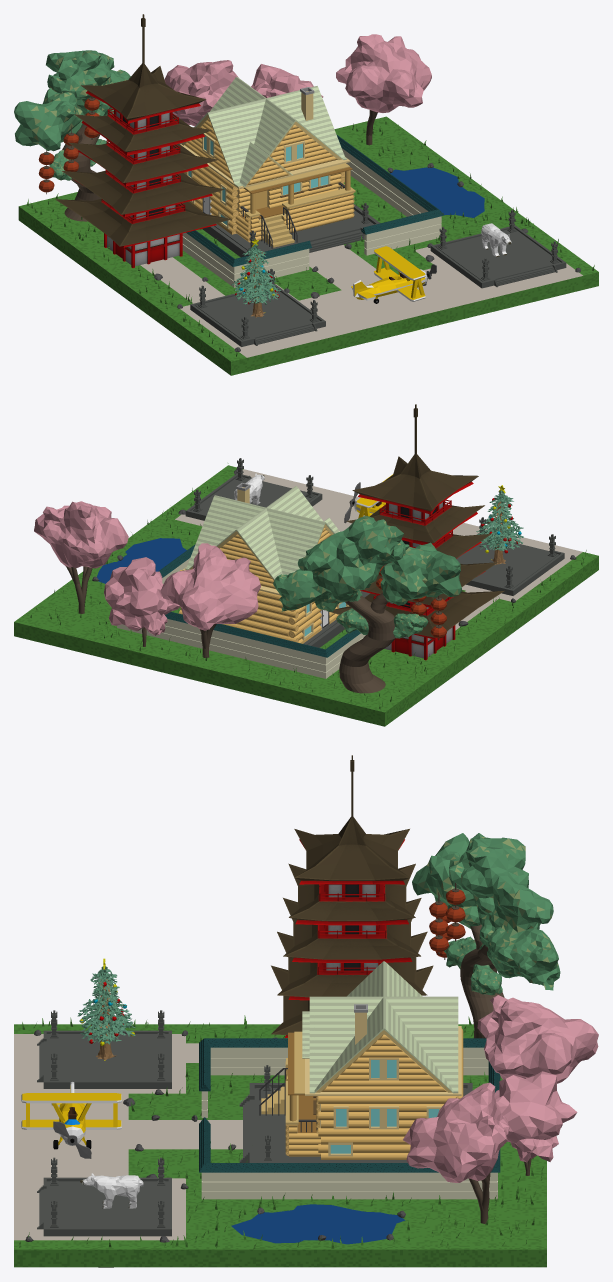
3 renders of one model, top to bottom at view 1: azimuth 30°, elevation 25°; view 2: azimuth 150°, elevation 25°; view 3: azimuth 270°, elevation 25°, orthographic. The views are drawn at different scales.
Visible parts, largest first — view 1: Cube.005, Cube.1516, VEHICLES_AIRPLANE, OBJRANDOM_CHRISTMAS_TREE, ANIMAL_OSO_POLAR; view 2: Cube.005, Cube.1516, OBJRANDOM_CHRISTMAS_TREE, VEHICLES_AIRPLANE; view 3: Cube.005, Cube.1516, VEHICLES_AIRPLANE, OBJRANDOM_CHRISTMAS_TREE, ANIMAL_OSO_POLAR.
Part boxes in pixels (<box>): Cube.005: <box>14,14,598,375</box>; Cube.1516: <box>179,77,355,248</box>; VEHICLES_AIRPLANE: <box>350,246,436,303</box>; OBJRANDOM_CHRISTMAS_TREE: <box>231,239,280,317</box>; ANIMAL_OSO_POLAR: <box>481,223,511,257</box>; Cube.005: <box>14,404,598,726</box>; Cube.1516: <box>178,482,360,643</box>; OBJRANDOM_CHRISTMAS_TREE: <box>476,485,523,564</box>; VEHICLES_AIRPLANE: <box>344,474,393,523</box>; Cube.005: <box>14,755,598,1267</box>; Cube.1516: <box>259,961,463,1159</box>; VEHICLES_AIRPLANE: <box>21,1082,121,1158</box>; OBJRANDOM_CHRISTMAS_TREE: <box>77,958,135,1060</box>; ANIMAL_OSO_POLAR: <box>80,1173,143,1208</box>.
Bounding box in the file's own units: 4528 × 2663 × 4389.
Materials: 47 (6 with a texture image).
